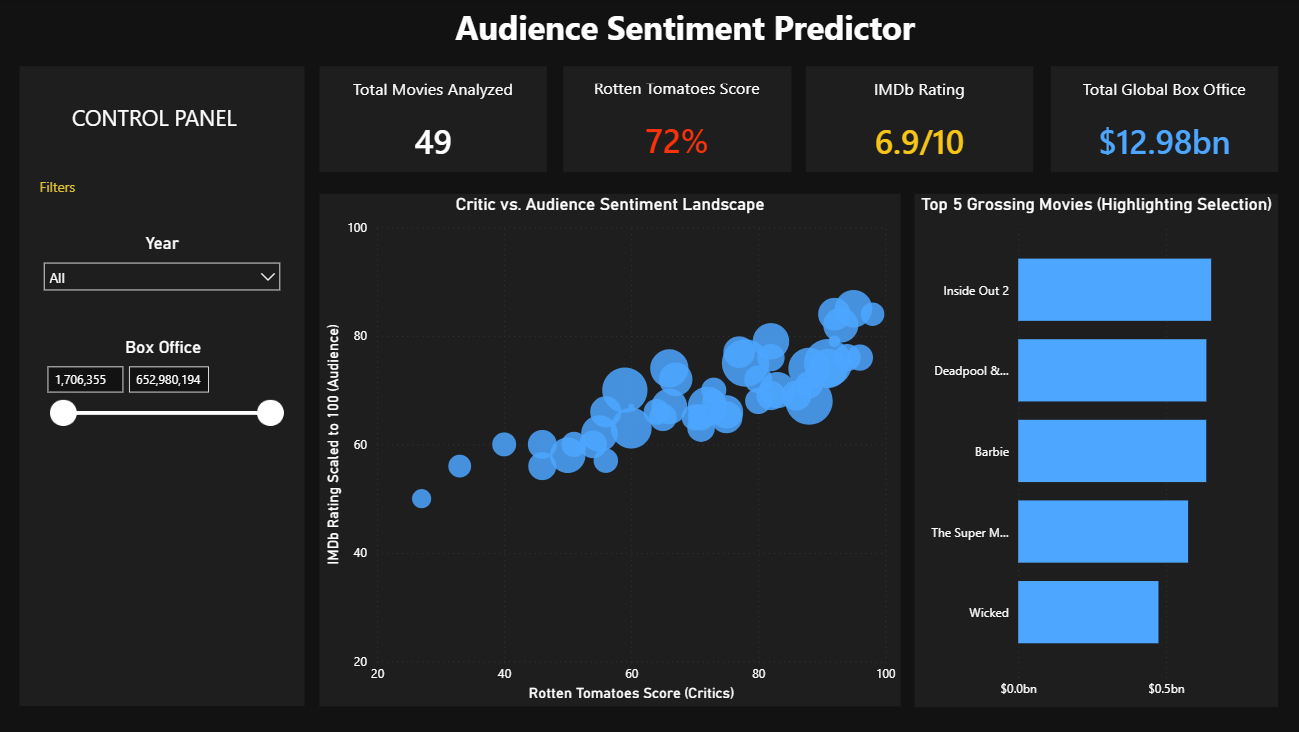

The page's visual inventory and layout, read from the dashboard file:
{"tool":"powerbi","page":{"name":"Dashboard","canvas":[1280,720],"ordinal":0},"visuals":[{"type":"shape","box":[22.1,65,279.8,628.2],"z":0},{"type":"textbox","box":[208.6,0,942.3,57.7],"z":1000},{"type":"slicer","title":"Year","fields":{"Values":["the_audience_cleaned.Year"]},"box":[35.6,228.2,252.8,77.3],"z":2000},{"type":"slicer","title":"Box Office","fields":{"Values":["the_audience_cleaned.Box_Office"]},"box":[36.8,330.1,252.8,98.2],"z":3000},{"type":"cardVisual","title":"RT_Score","fields":{"Data":["the_audience_cleaned.Avg RT KPI"]},"box":[555.5,65.5,223.6,103.6],"z":4000},{"type":"cardVisual","fields":{"Data":["the_audience_cleaned.Avg IMDb KPI"]},"box":[793.8,65.6,223.1,104.4],"z":5000},{"type":"cardVisual","fields":{"Data":["Sum(the_audience_cleaned.Box_Office)"]},"box":[1034.4,65,223.3,104.3],"z":6000},{"type":"cardVisual","fields":{"Data":["Count(the_audience_cleaned.Title)"]},"box":[316.6,65,223.3,104.3],"z":7000},{"type":"scatterChart","title":"Critic vs. Audience Sentiment Landscape","fields":{"Category":["the_audience_cleaned.Title"],"X":["Avg(the_audience_cleaned.RT_Score)"],"Y":["Avg(the_audience_cleaned.IMDb_Rating)"],"Size":["Sum(the_audience_cleaned.Box_Office)"]},"box":[316.6,190.2,570.6,503.1],"z":8000},{"type":"clusteredBarChart","title":"Top 5 Grossing Movies (Highlighting Selection)","fields":{"Category":["the_audience_cleaned.Title"],"Y":["Sum(the_audience_cleaned.Box_Office)"]},"box":[900.6,190.2,357.1,504.3],"z":9000},{"type":"textbox","box":[68.7,95.7,189,44.2],"z":10000},{"type":"textbox","box":[36.8,169.3,252.8,29.4],"z":11000}]}

Visuals, with their boxes in screenshot pixels (x1, y1, x2, y2), scaled from the page's 1280x720 canvas onto the 1299x732 screenshot:
shape: crop(22, 66, 306, 705)
textbox: crop(212, 0, 1168, 59)
"Year" slicer: crop(36, 232, 293, 311)
"Box Office" slicer: crop(37, 336, 294, 435)
"RT_Score" cardVisual: crop(564, 67, 791, 172)
cardVisual - the_audience_cleaned.Avg IMDb KPI: crop(806, 67, 1032, 173)
cardVisual - Sum(the_audience_cleaned.Box_Office): crop(1050, 66, 1276, 172)
cardVisual - Count(the_audience_cleaned.Title): crop(321, 66, 548, 172)
"Critic vs. Audience Sentiment Landscape" scatterChart: crop(321, 193, 900, 705)
"Top 5 Grossing Movies (Highlighting Selection)" clusteredBarChart: crop(914, 193, 1276, 706)
textbox: crop(70, 97, 262, 142)
textbox: crop(37, 172, 294, 202)
